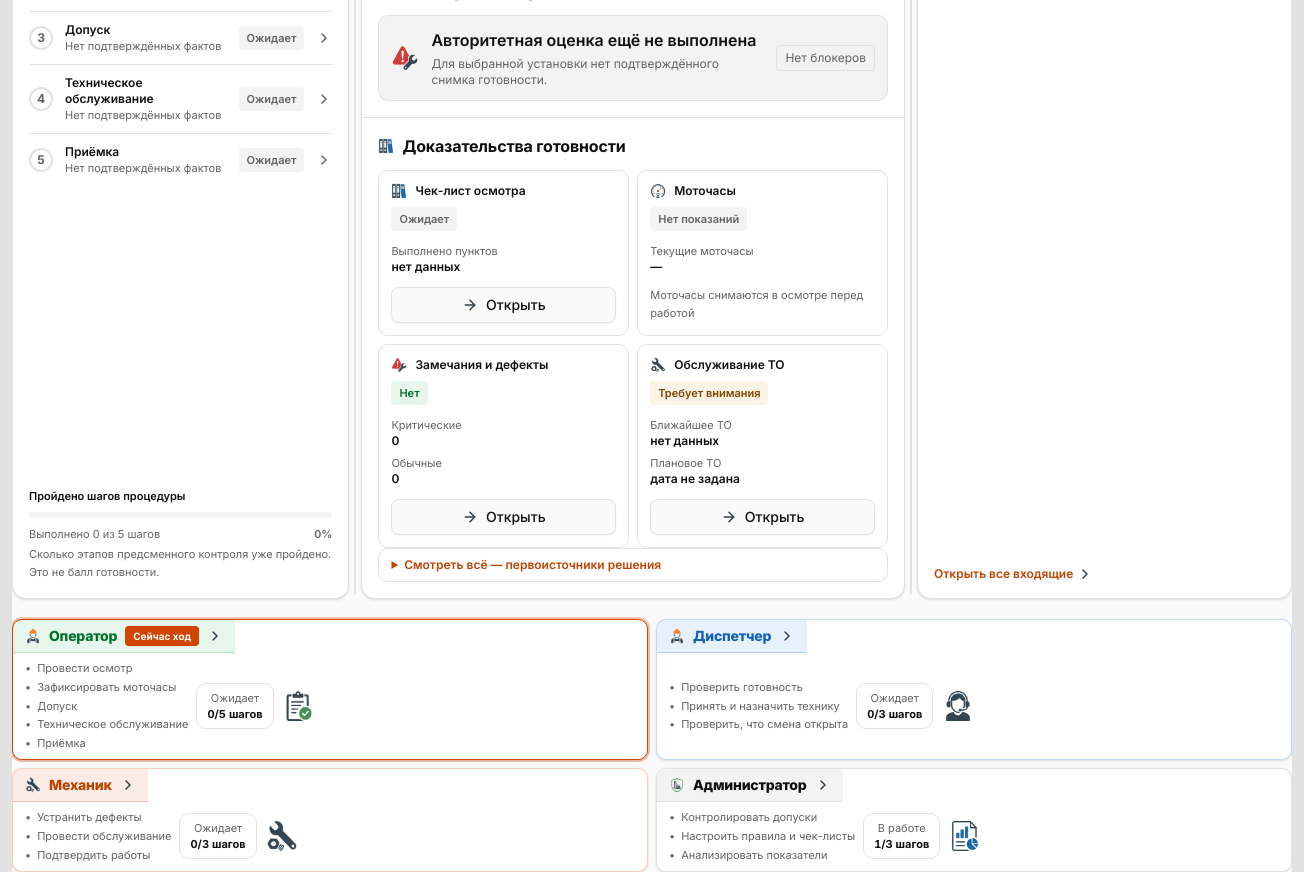
Test case: Диспетчер: третий шаг считается по открытой смене (W71) › шаг подписан: «Выполняет оператор — вы только проверяете»
(page scrolled)
Click the button with aria-label "Диспетчер: что делать сейчас": (974,690) [657,620,1291,759]
(page scrolled)
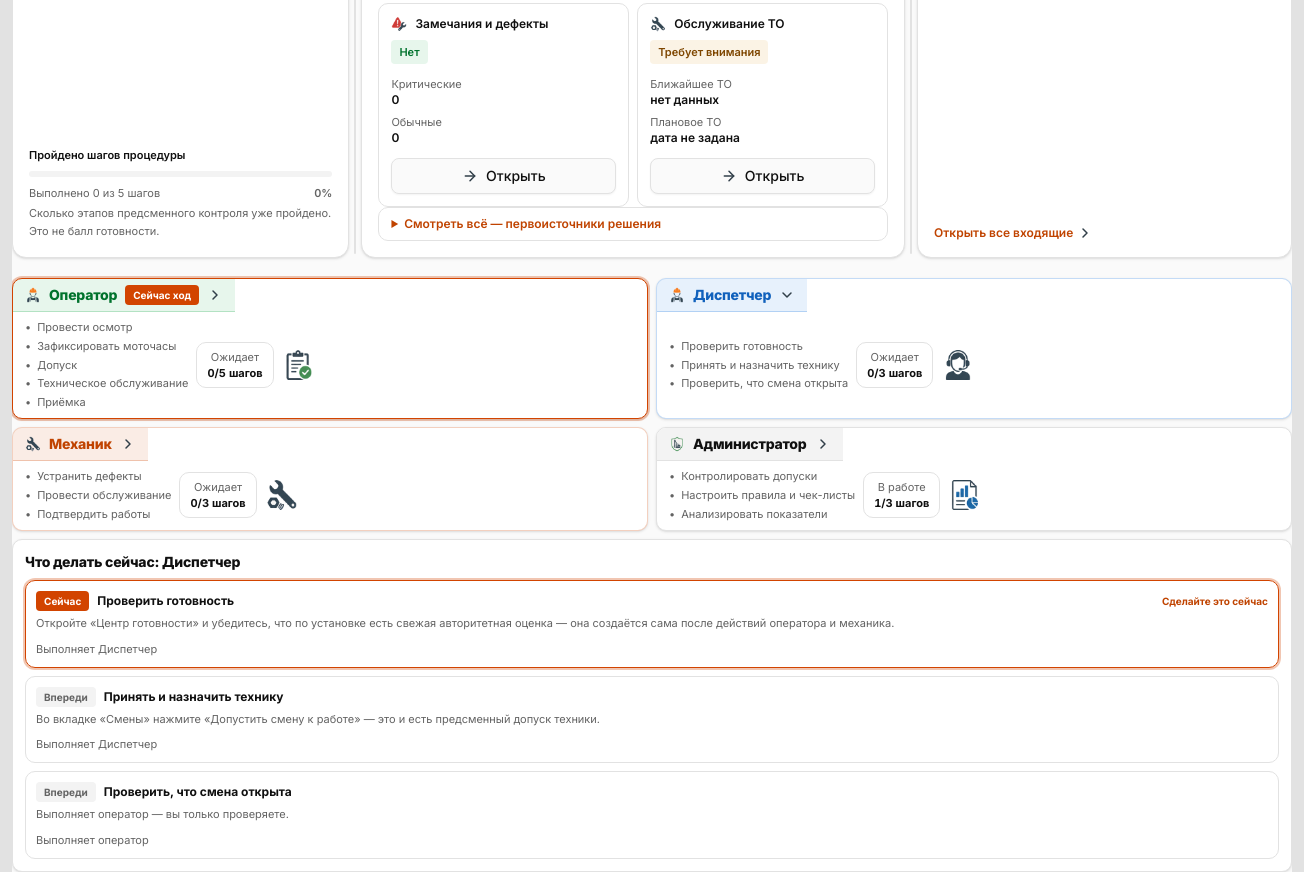
Expected: the text "Выполняет оператор — вы только проверяете." is shown, [36,807,289,821]
